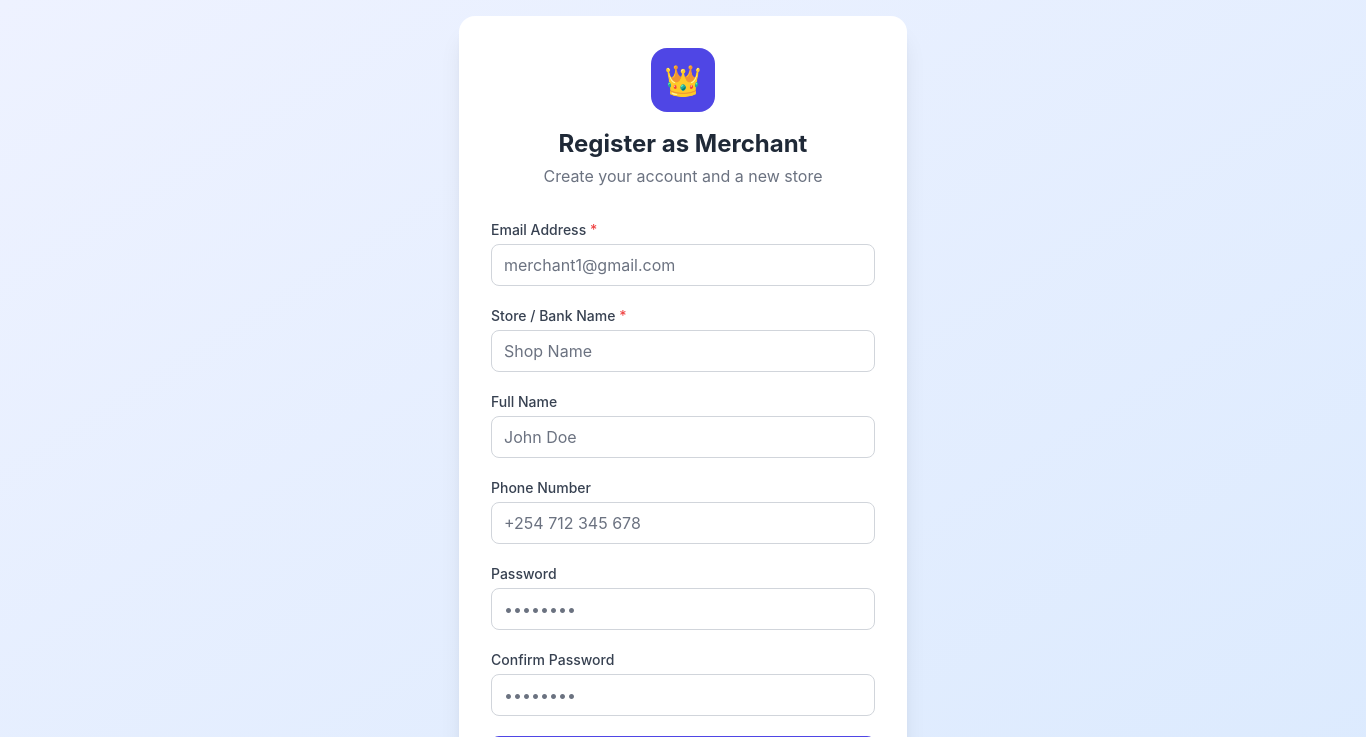
Test: Register Page - Merchant Mode (no token) › shows password mismatch error
The width and height of the screenshot is (1366, 737).
Type "test@gmail.com" into the field with placeholder "merchant1@gmail.com" at (683,265), box top-left (491, 244), bottom-right (875, 286)
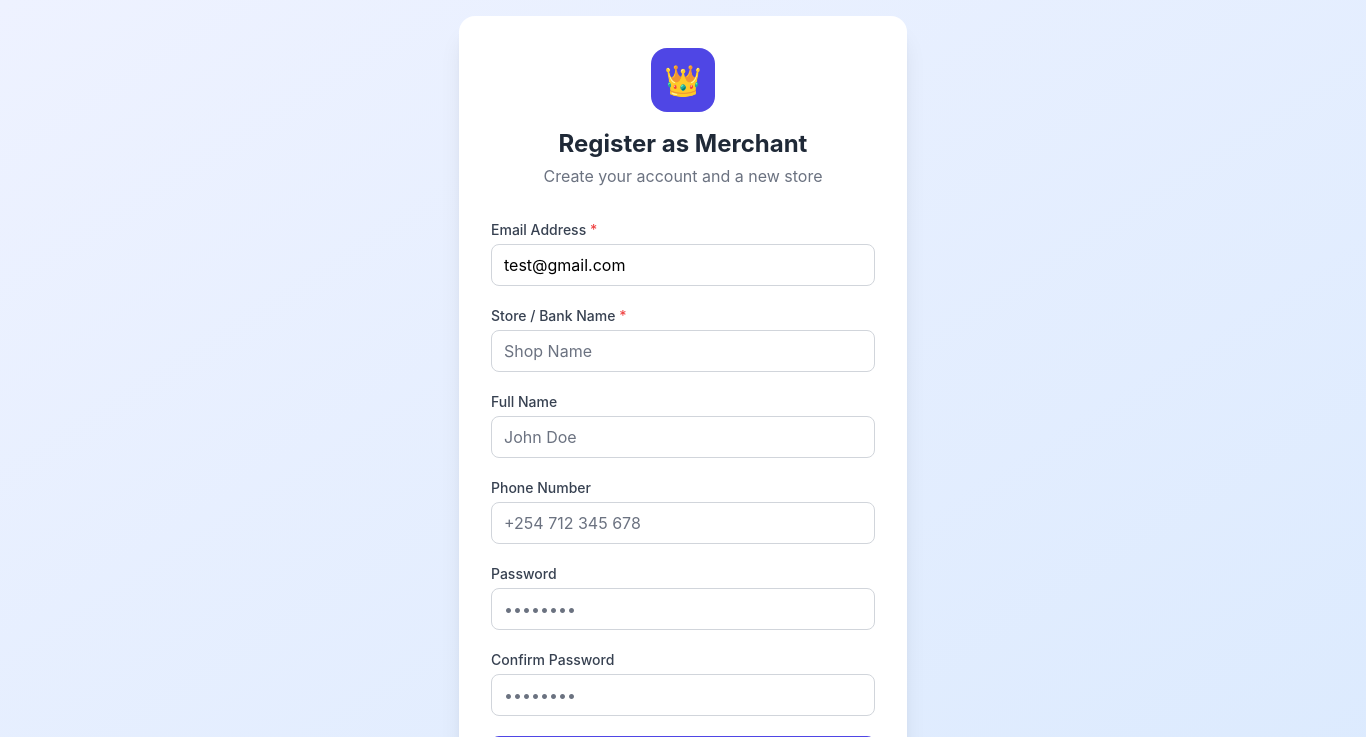
Type "My Store" into the field with placeholder "Shop Name" at (683,351), box top-left (491, 330), bottom-right (875, 372)
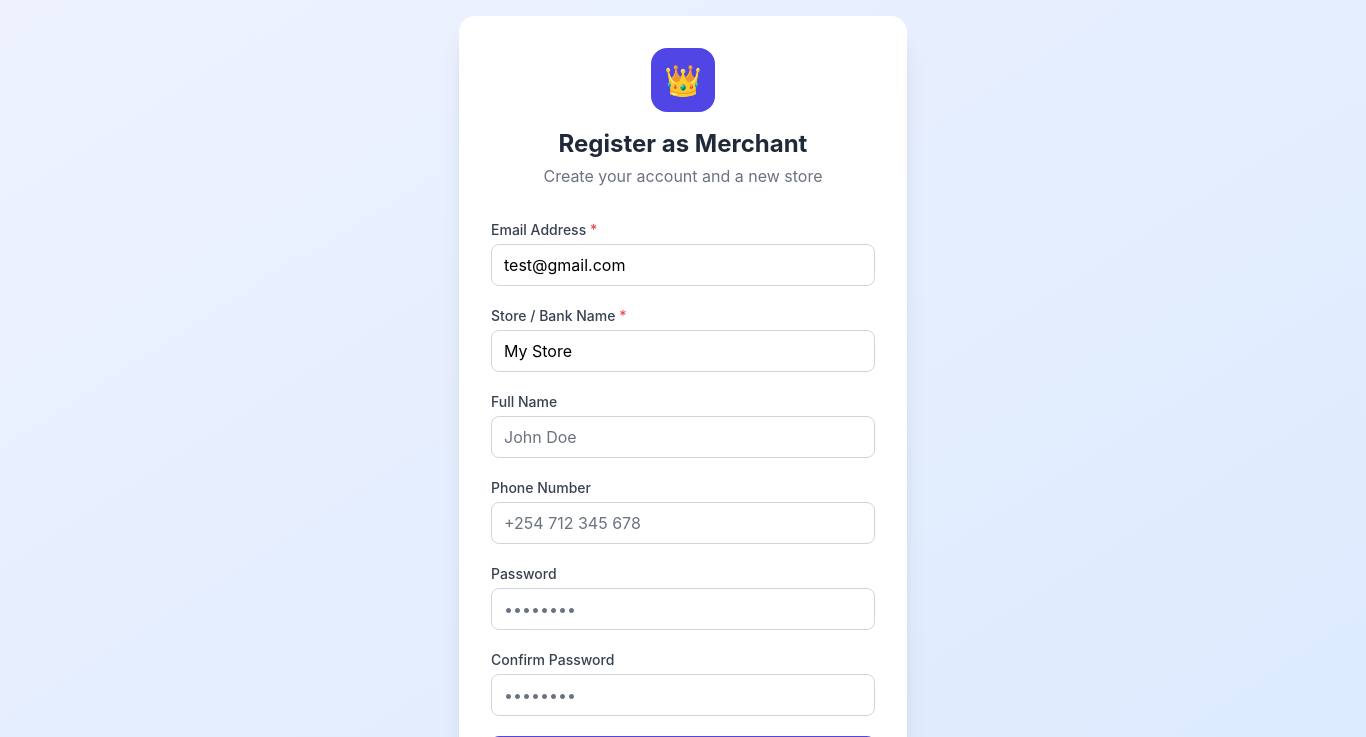
Type "Test User" into the field with placeholder "John Doe" at (683,437), box top-left (491, 416), bottom-right (875, 458)
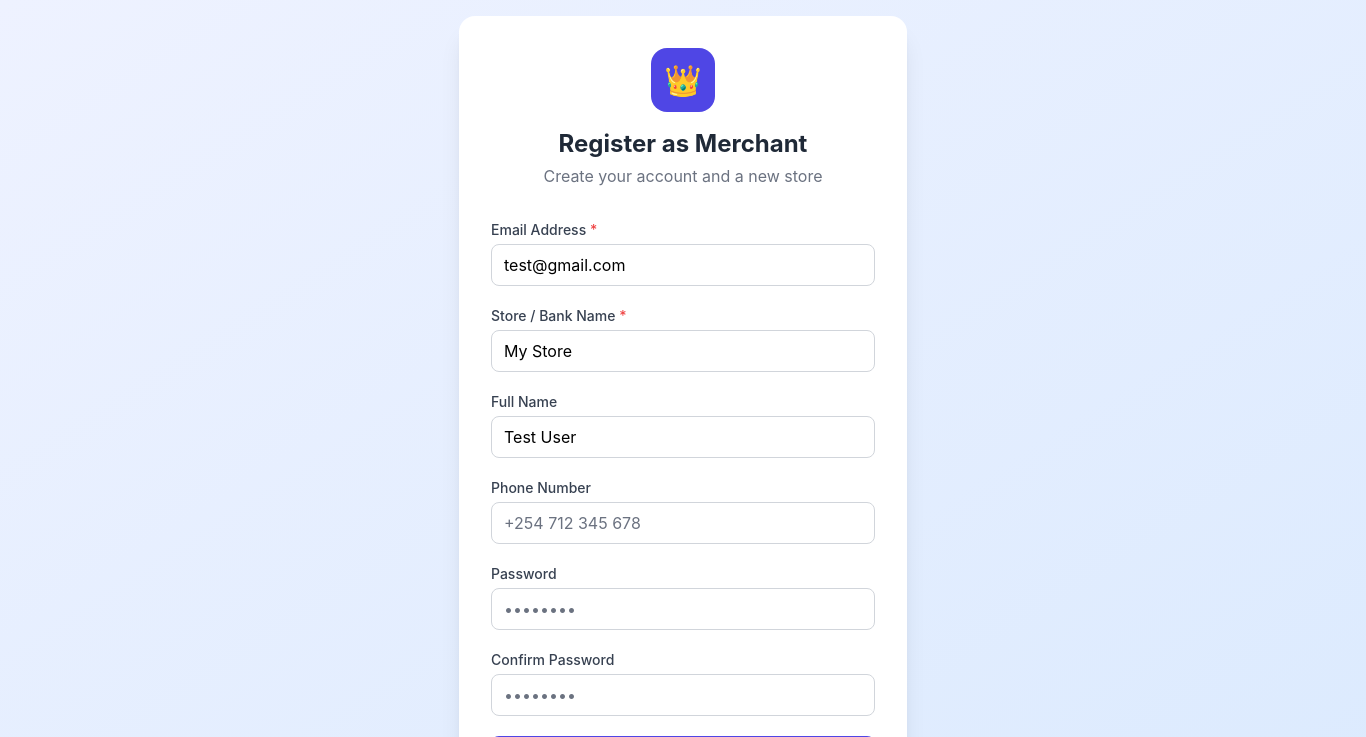
Type "password123" into the 1st password field with placeholder "••••••••" at (683,609), box top-left (491, 588), bottom-right (875, 630)
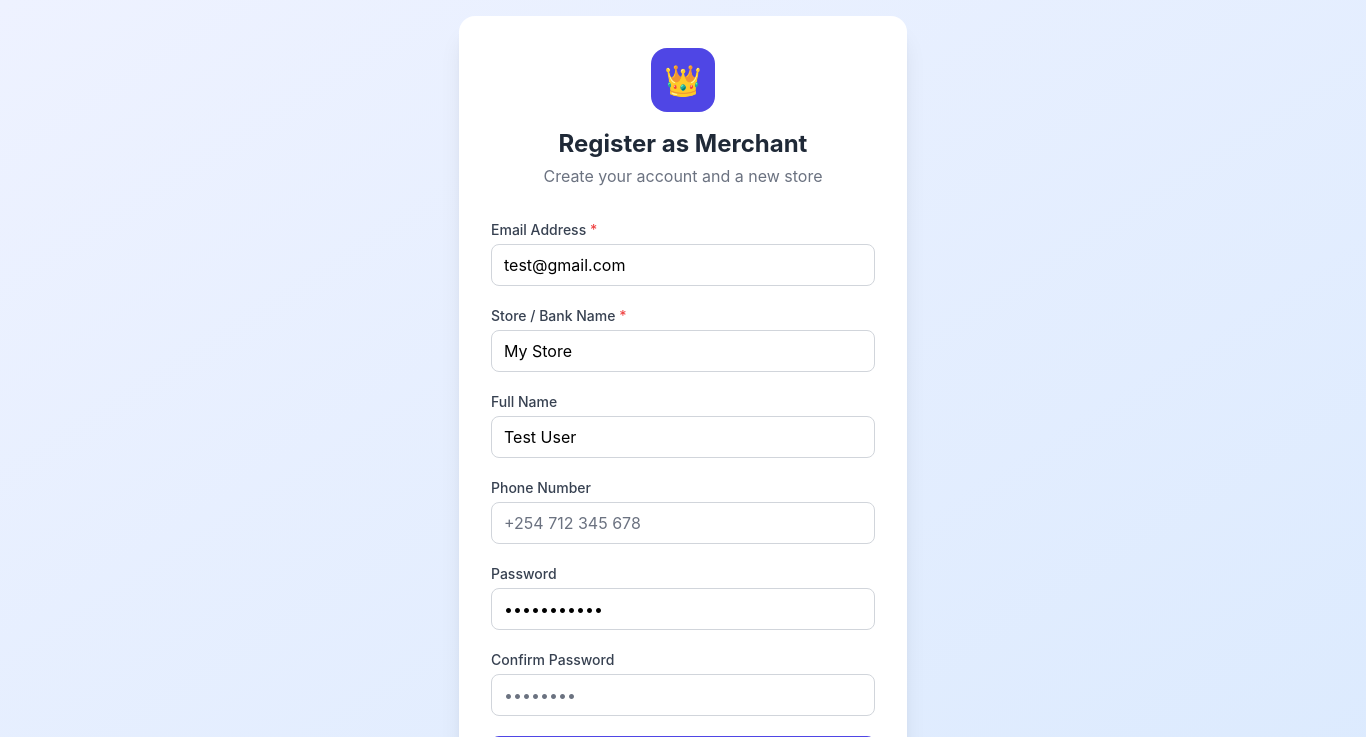
Type "different123" into the password field with placeholder "••••••••" at (683,695), box top-left (491, 674), bottom-right (875, 716)
(page scrolled)
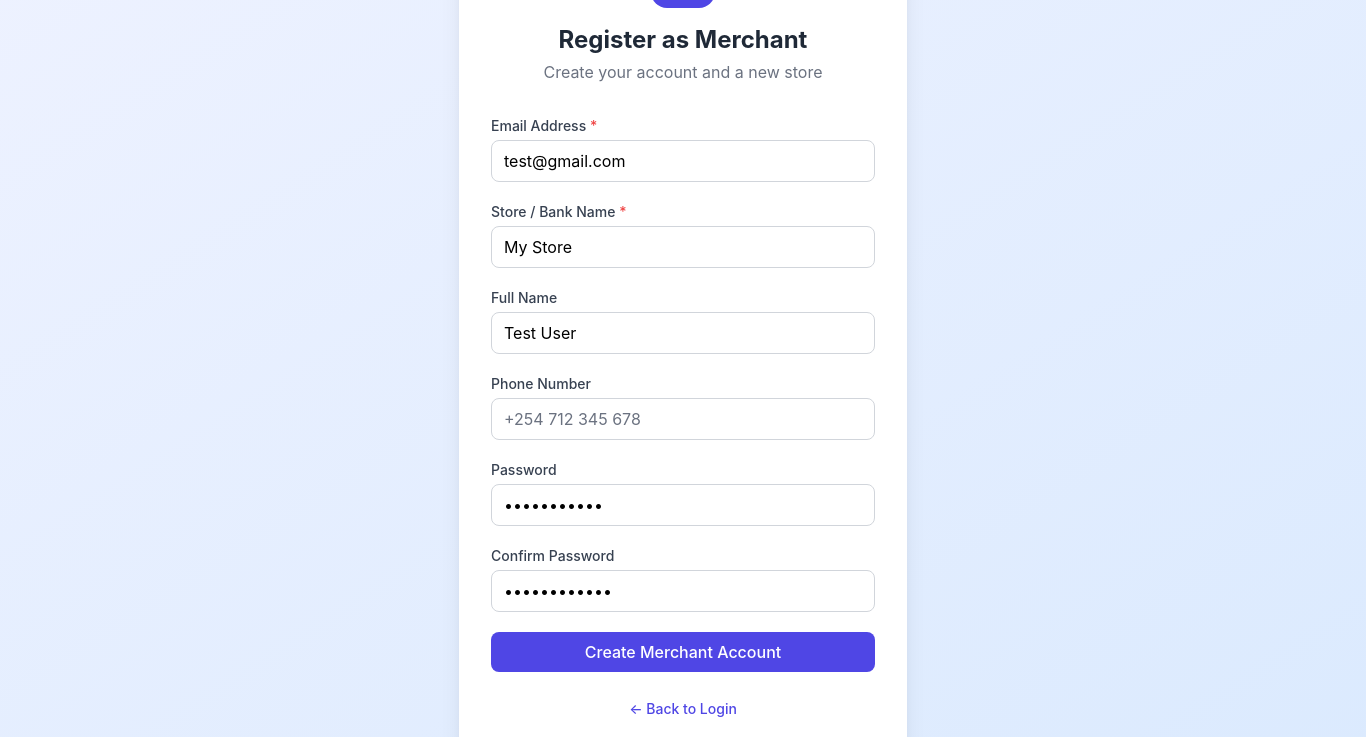
Click the button "Create Merchant Account" at (683,652), box top-left (491, 632), bottom-right (875, 672)
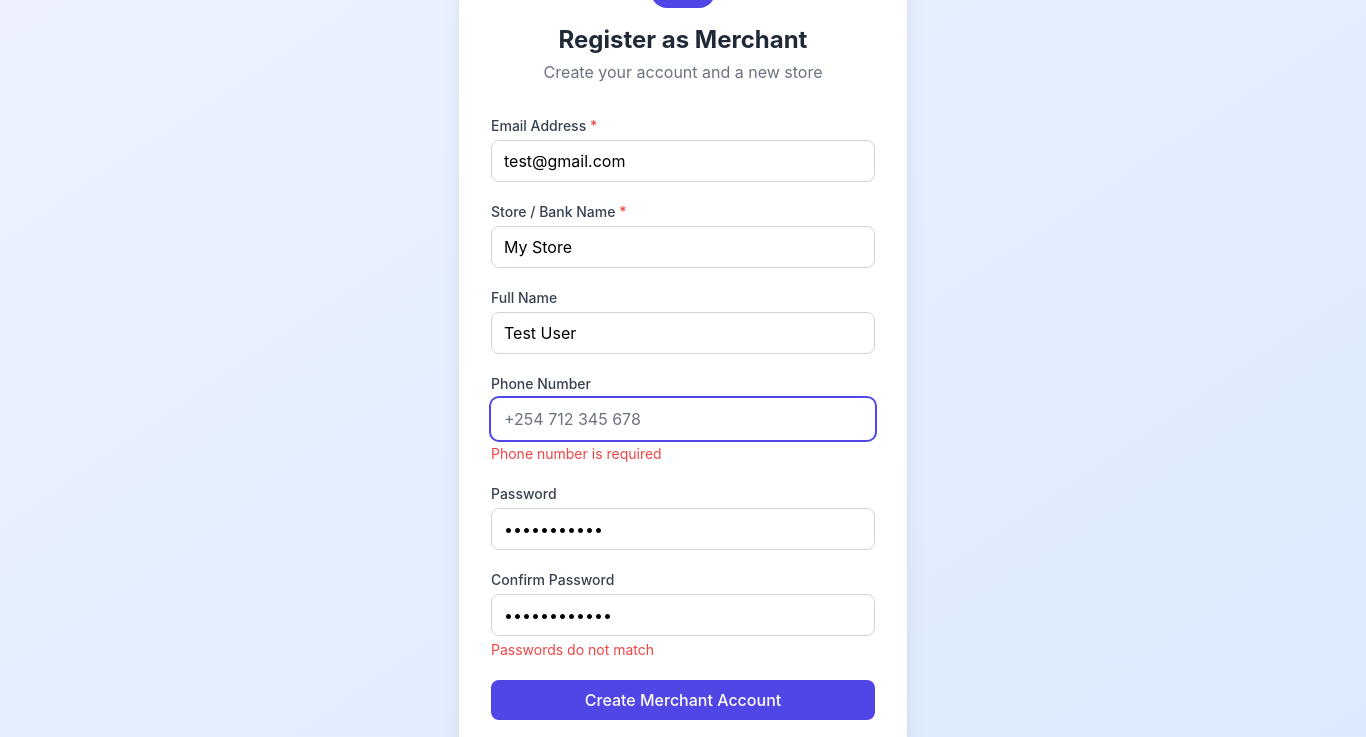
Now the text "Passwords do not match" is shown, box top-left (491, 641), bottom-right (654, 658)
